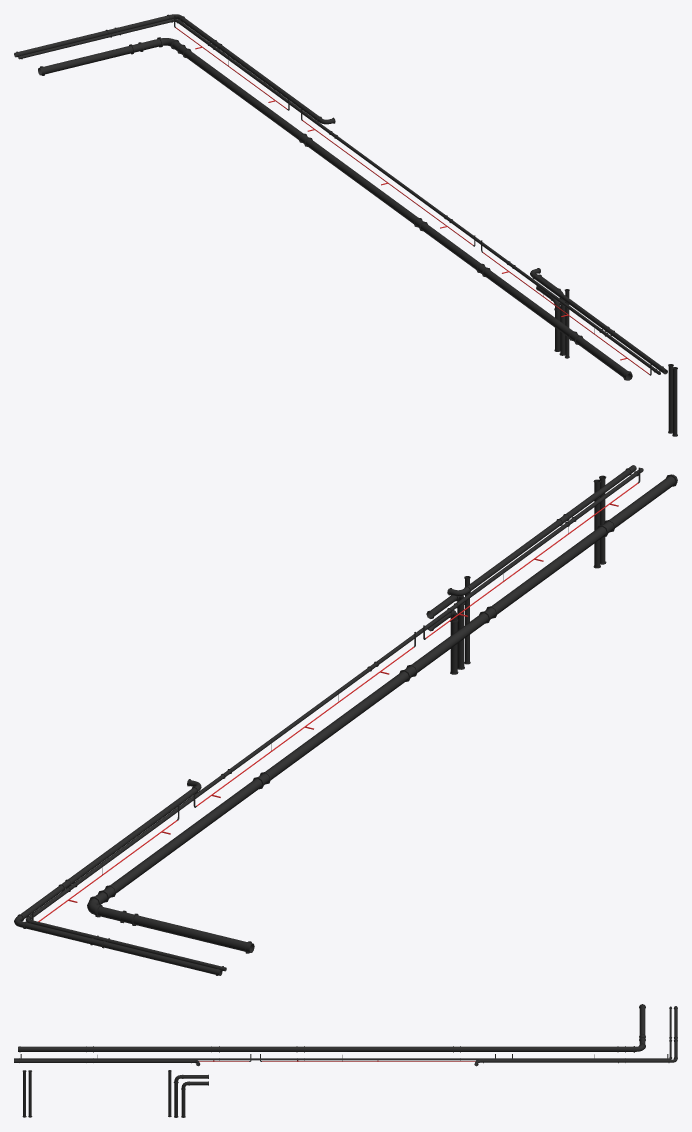
File: SM_H_Building_Tide_Waterway_01b_ATLAS.fbx
3 renders of one model, top to bottom at view 1: azimuth 30°, elevation 25°; view 2: azimuth 150°, elevation 25°; view 3: azimuth 270°, elevation 25°, orthographic. The views are drawn at different scales.
Visible parts, largest first — view 1: SM_H_Building_Tide_Waterway_01b_ATLAS; view 2: SM_H_Building_Tide_Waterway_01b_ATLAS; view 3: SM_H_Building_Tide_Waterway_01b_ATLAS.
Boxes of the visible parts, bbox=[...] form: SM_H_Building_Tide_Waterway_01b_ATLAS: bbox=[14, 14, 677, 436]; SM_H_Building_Tide_Waterway_01b_ATLAS: bbox=[14, 465, 677, 975]; SM_H_Building_Tide_Waterway_01b_ATLAS: bbox=[14, 1004, 677, 1117].
Size of the model in its own units: 1048 by 4859 by 438.
